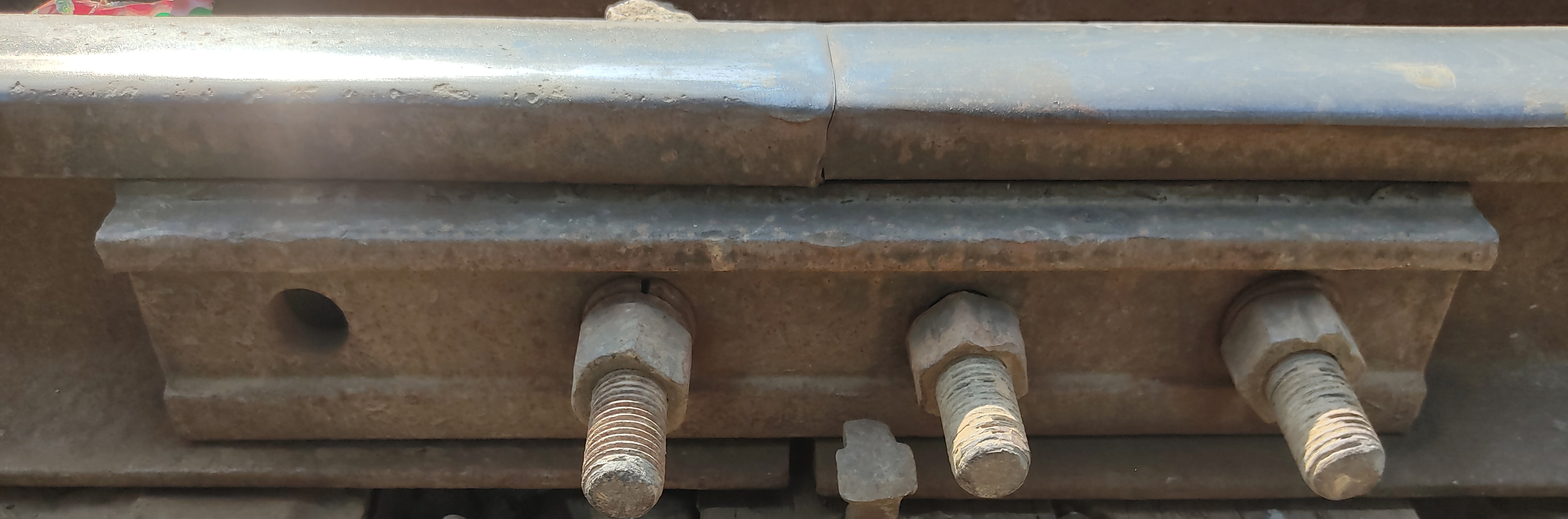duan lie: (788, 8, 873, 191)
